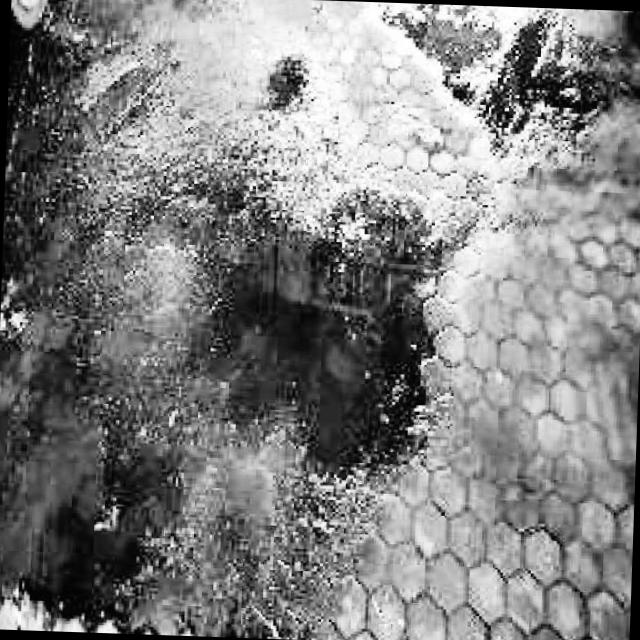Pothole: (152, 168, 480, 500), (352, 1, 636, 153)
